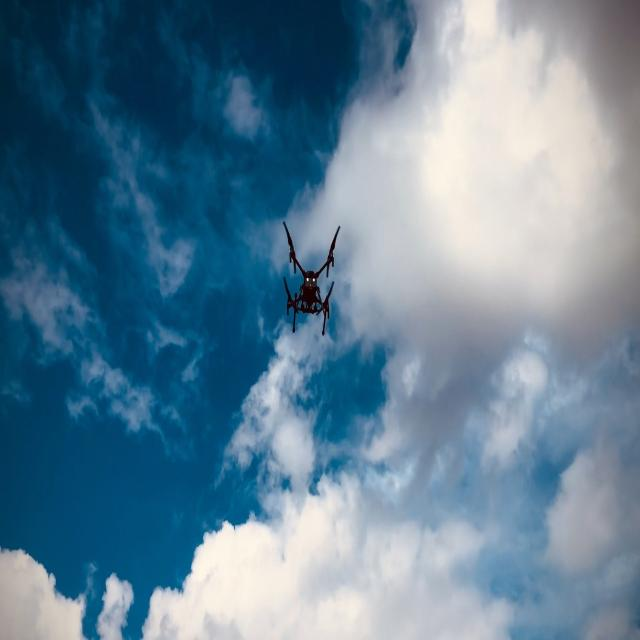drone: (282, 219, 341, 336)
